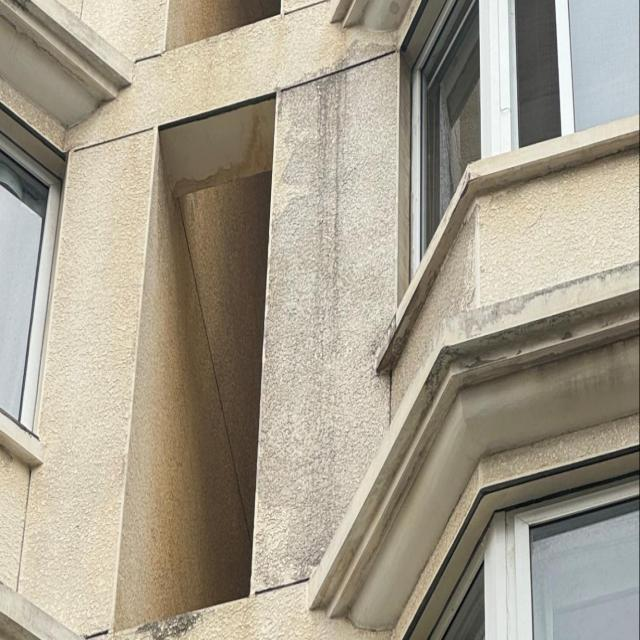mildew: (251, 38, 477, 590), (407, 259, 639, 428)
